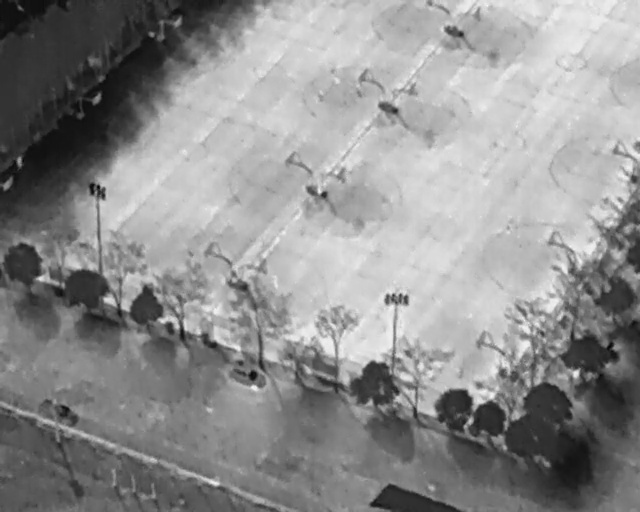Person: (15, 151, 23, 172)
